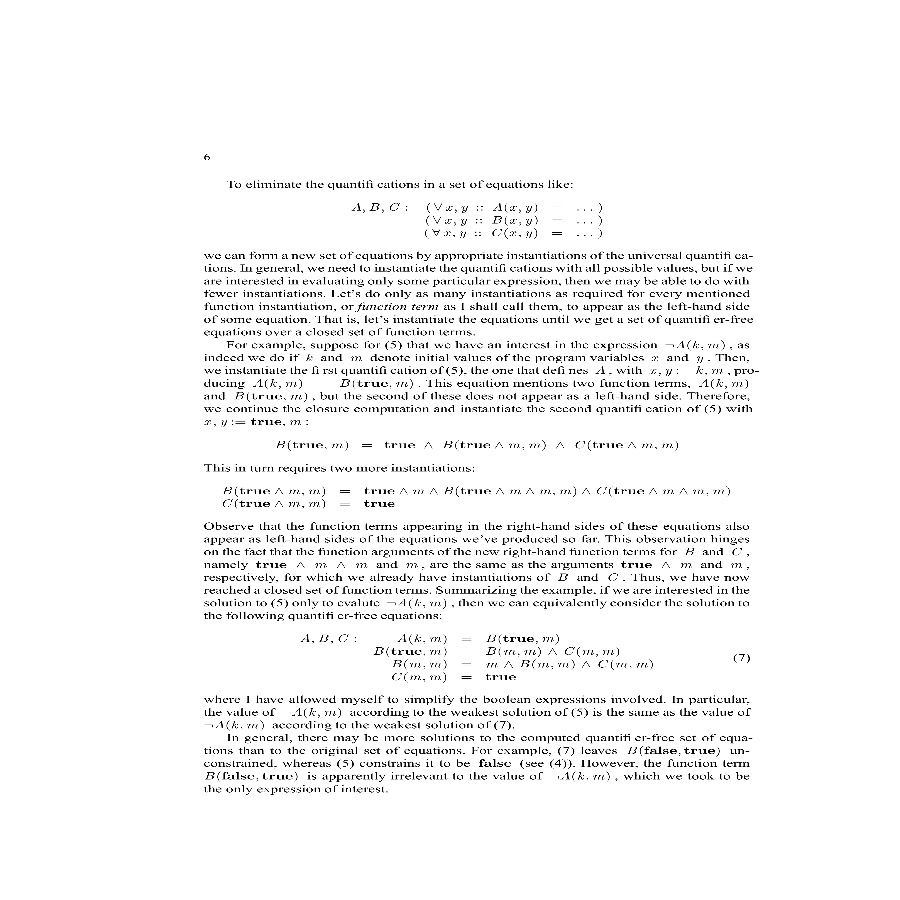eq: (299, 629, 662, 688), (221, 483, 737, 512), (352, 196, 607, 245), (273, 434, 682, 454)
